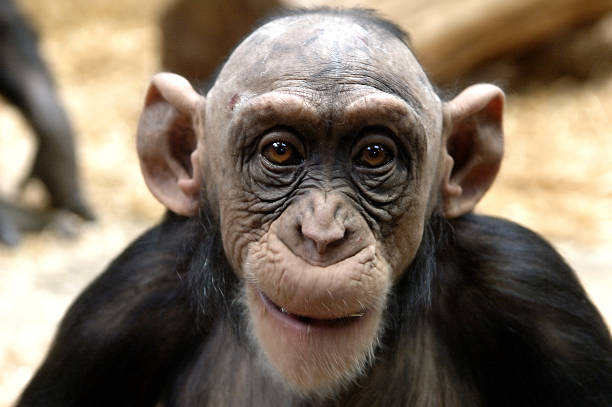chimpanzee: (97, 2, 515, 407)
